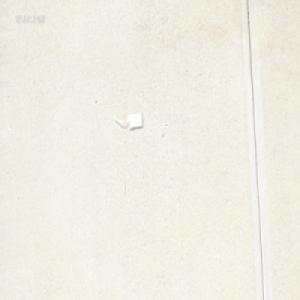LuggageTag: (112, 112, 143, 129)
